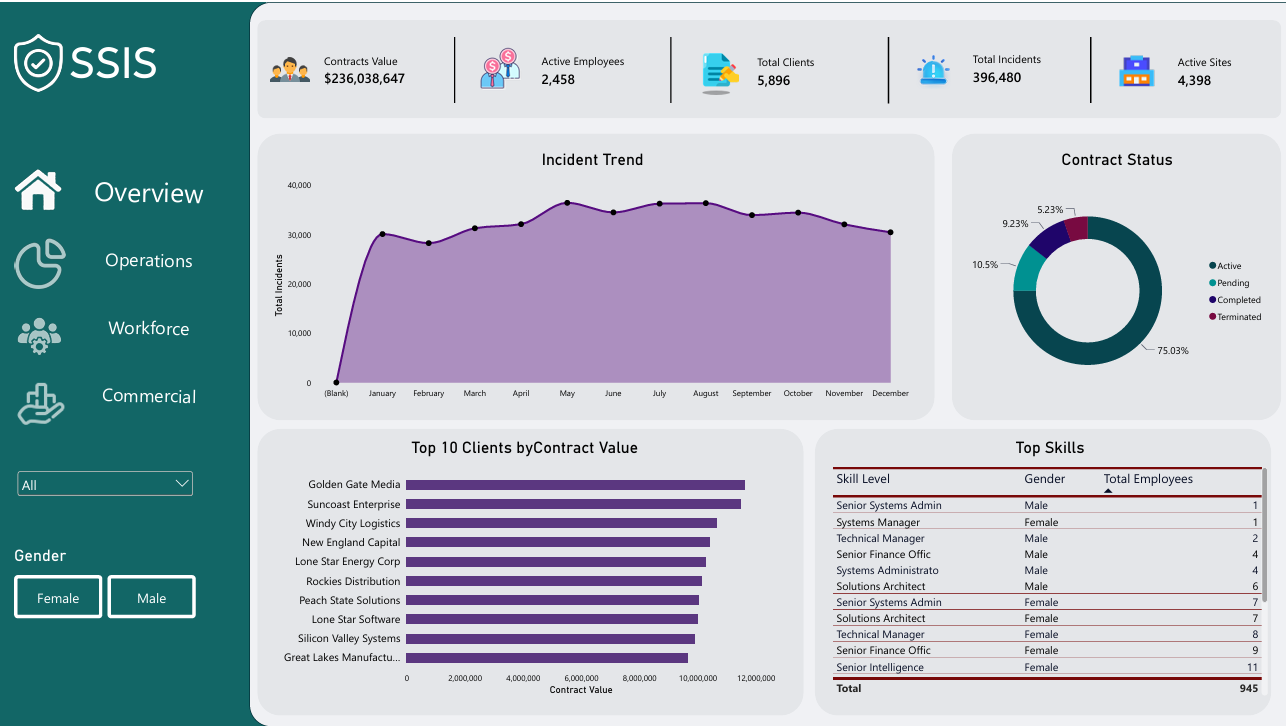

The dashboard page shown, as its layout file describes it:
{"tool":"powerbi","page":{"name":"Overview","canvas":[1280,720],"ordinal":0},"visuals":[{"type":"textbox","box":[386.4,11.8,874.3,64.7],"z":0},{"type":"shape","box":[14.7,11.8,205.7,702.4],"z":1000},{"type":"textbox","box":[30.9,27.9,164.6,61.7],"z":2000},{"type":"actionButton","box":[25,293.9,178,58.9],"z":2000,"group":"g6"},{"type":"cardVisual","title":"Active Contracts","fields":{"Data":["ssis contract.Active Contracts"]},"box":[639.4,87.8,144,99.4],"z":3000,"group":"g10"},{"type":"clusteredBarChart","title":"Employee Skill Level","fields":{"Category":["ssis employee.skill_level"],"Y":["CountNonNull(ssis employee.employee_name)"]},"box":[227.8,199.8,546.6,310],"z":3000},{"type":"actionButton","box":[23.5,392.3,178,58.9],"z":3000,"group":"g7"},{"type":"donutChart","title":"Contract Status","fields":{"Y":["CountNonNull(ssis contract.contract_id)"],"Category":["ssis contract.status"]},"box":[783.2,515.8,479,198.4],"z":4000},{"type":"group","id":"g1","title":"Group 1","box":[227.5,87.8,231.8,99.4],"z":5000},{"type":"actionButton","box":[23.5,479,178,60.2],"z":5000,"group":"g8"},{"type":"group","id":"g2","title":"Group 2","box":[469.4,86.4,157,99.4],"z":6000},{"type":"actionButton","box":[29.4,568,177.8,60.2],"z":6000,"group":"g9"},{"type":"cardVisual","title":"Active Employees","fields":{"Data":["ssis employee.Active Employees"]},"box":[469.4,86.4,157,99.4],"z":7000,"group":"g2"},{"type":"group","id":"g3","title":"Group 3","box":[800,86.7,154,100.2],"z":7000},{"type":"group","id":"g4","title":"Group 4","box":[966,86.7,148,100.2],"z":8000},{"type":"cardVisual","title":"Active Sites","fields":{"Data":["ssis site.Active Sites"]},"box":[1127.5,86.7,133.1,100.2],"z":8000,"group":"g5"},{"type":"image","box":[639.4,113.7,49,73.4],"z":8000,"group":"g10"},{"type":"group","id":"g5","title":"Group 5","box":[1127.5,86.7,133.1,100.2],"z":9000},{"type":"cardVisual","title":"Contract Value","fields":{"Data":["ssis contract.Total Contract Value"]},"box":[227.5,87.8,231.8,99.4],"z":10000,"group":"g1"},{"type":"group","id":"g6","title":"Group 6","box":[25,293.9,177.8,58.8],"z":10000},{"type":"cardVisual","title":"Total Incidents","fields":{"Data":["ssis incident.Total Incidents"]},"box":[800,86.7,154,100.2],"z":11000,"group":"g3"},{"type":"group","id":"g7","title":"Group 7","box":[23.5,392.3,177.8,58.8],"z":11000},{"type":"cardVisual","title":"Total Clients","fields":{"Data":["ssis client.Total Clients"]},"box":[966,86.7,148,100.2],"z":12000,"group":"g4"},{"type":"group","id":"g8","title":"Group 8","box":[23.5,479,177.8,60.2],"z":12000},{"type":"group","id":"g9","title":"Group 9","box":[29.4,567.2,177.8,61.7],"z":13000},{"type":"image","box":[227.5,87.8,59,97.9],"z":13005,"group":"g1"},{"type":"image","box":[469.4,113.8,59,70.6],"z":13007,"group":"g2"},{"type":"image","box":[966.3,89.3,44.6,95],"z":13008,"group":"g4"},{"type":"image","box":[1127.5,87.8,36,95],"z":13009,"group":"g5"},{"type":"image","box":[800.6,89.3,31.7,95],"z":13010,"group":"g3"},{"type":"image","box":[23.5,392.3,36.7,58.9],"z":13016,"group":"g7"},{"type":"image","box":[26.3,293.9,45.8,58.9],"z":13017,"group":"g6"},{"type":"image","box":[24.8,479,38,58.9],"z":13018,"group":"g8"},{"type":"image","box":[34.7,567.2,27.9,59.4],"z":13019,"group":"g9"},{"type":"group","id":"g10","title":"Group 10","box":[639.4,87.8,144,99.4],"z":14000},{"type":"lineChart","title":"Incident Trend","fields":{"Y":["CountNonNull(ssis incident.incident_type)"],"Category":["ssis incident.incident_datetime.Variation.Date Hierarchy.Year","ssis incident.incident_datetime.Variation.Date Hierarchy.Quarter","ssis incident.incident_datetime.Variation.Date Hierarchy.Month","ssis incident.incident_datetime.Variation.Date Hierarchy.Day"]},"box":[227.8,515.8,546.6,198.4],"z":15000},{"type":"clusteredBarChart","title":"Top 10 Clients byContract Value","fields":{"Category":["ssis client.client_name"],"Y":["Sum(ssis contract.contract_value)"]},"box":[783.2,194,477.6,315.9],"z":16000},{"type":"textbox","box":[227.8,27.9,158.7,48.5],"z":17000},{"type":"image","box":[30.9,86.7,164.6,195.4],"z":18000}]}

Visuals, with their boxes in screenshot pixels (x1, y1, x2, y2), scaled from the page's 1280x720 canvas onto the 1286x726 screenshot:
textbox: locate(388, 12, 1267, 77)
shape: locate(15, 12, 221, 720)
textbox: locate(31, 28, 196, 90)
actionButton: locate(25, 296, 204, 356)
"Active Contracts" cardVisual: locate(642, 89, 787, 189)
"Employee Skill Level" clusteredBarChart: locate(229, 201, 778, 514)
actionButton: locate(24, 396, 202, 455)
"Contract Status" donutChart: locate(787, 520, 1268, 720)
"Group 1" group: locate(229, 89, 461, 189)
actionButton: locate(24, 483, 202, 544)
"Group 2" group: locate(472, 87, 629, 187)
actionButton: locate(30, 573, 208, 633)
"Active Employees" cardVisual: locate(472, 87, 629, 187)
"Group 3" group: locate(804, 87, 958, 188)
"Group 4" group: locate(971, 87, 1119, 188)
"Active Sites" cardVisual: locate(1133, 87, 1267, 188)
image: locate(642, 115, 692, 189)
"Group 5" group: locate(1133, 87, 1267, 188)
"Contract Value" cardVisual: locate(229, 89, 461, 189)
"Group 6" group: locate(25, 296, 204, 356)
"Total Incidents" cardVisual: locate(804, 87, 958, 188)
"Group 7" group: locate(24, 396, 202, 455)
"Total Clients" cardVisual: locate(971, 87, 1119, 188)
"Group 8" group: locate(24, 483, 202, 544)
"Group 9" group: locate(30, 572, 208, 634)
image: locate(229, 89, 288, 187)
image: locate(472, 115, 531, 186)
image: locate(971, 90, 1016, 186)
image: locate(1133, 89, 1169, 184)
image: locate(804, 90, 836, 186)
image: locate(24, 396, 60, 455)
image: locate(26, 296, 72, 356)
image: locate(25, 483, 63, 542)
image: locate(35, 572, 63, 632)
"Group 10" group: locate(642, 89, 787, 189)
"Incident Trend" lineChart: locate(229, 520, 778, 720)
"Top 10 Clients byContract Value" clusteredBarChart: locate(787, 196, 1267, 514)
textbox: locate(229, 28, 388, 77)
image: locate(31, 87, 196, 284)
